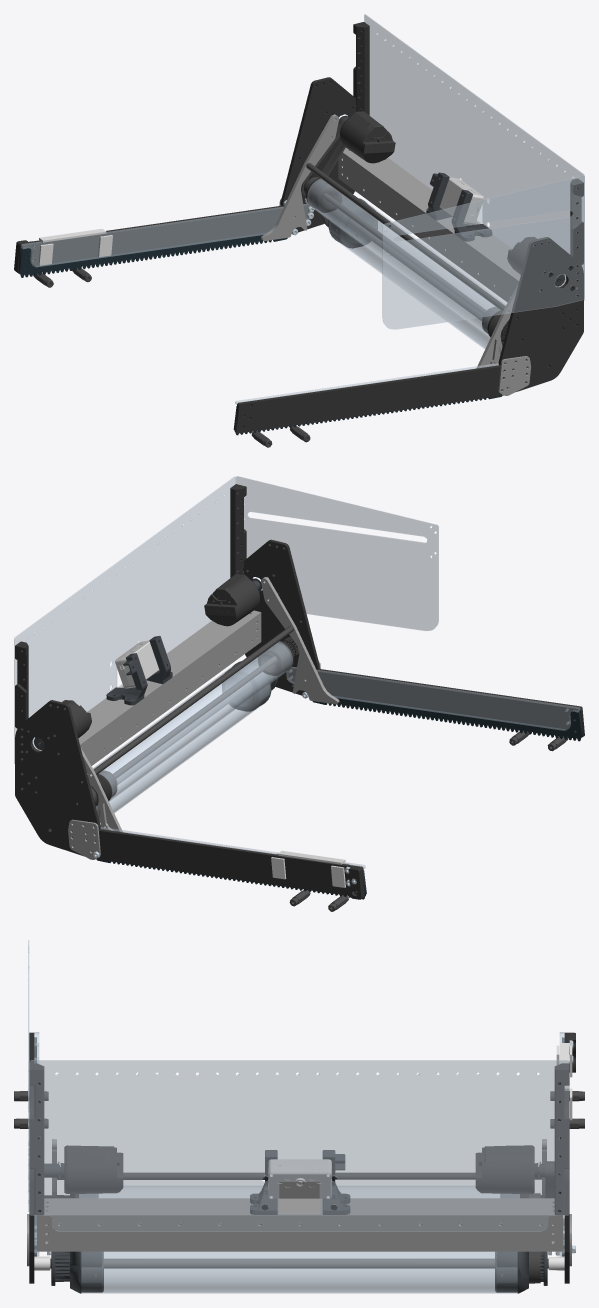
File: 581-intake.glb
3 renders of one model, top to bottom at view 1: azimuth 30°, elevation 25°; view 2: azimuth 150°, elevation 25°; view 3: azimuth 270°, elevation 25°, orthographic. The views are drawn at different scales.
Visible parts, largest first — view 1: Front Intake Hopper, Left Corner Print, 2x2, VEX-THND-500-1.725-BRNG, 26C0608 Right LL Mount V4, 254 Titanium Racks, Kraken X60 Brushless Motor, id1363, .5 x 4.5 Teflon; view 2: Front Intake Hopper, Left Corner Print, 2x2, VEX-THND-500-1.725-BRNG, 26C0608 Right LL Mount V4, 254 Titanium Racks, Kraken X60 Brushless Motor, id1363, .5 x 4.5 Teflon; view 3: Front Intake Hopper, 2x2, VEX-THND-500-1.725-BRNG, Left Corner Print, 26C0608 Right LL Mount V4, Kraken X60 Brushless Motor, id1363, .5 x 4.5 Teflon.
Boxes of the visible parts, x1,y1,x2,y2 form: Front Intake Hopper: (21,14,584,404); Left Corner Print: (14,22,583,433); 2x2: (261,114,562,395); VEX-THND-500-1.725-BRNG: (33,117,548,447); 26C0608 Right LL Mount V4: (322,115,565,346); 254 Titanium Racks: (18,233,501,435); Kraken X60 Brushless Motor: (340,111,560,281); id1363: (439,177,483,224); .5 x 4.5 Teflon: (38,228,112,265); Front Intake Hopper: (14,476,580,868); Left Corner Print: (15,484,584,899); 2x2: (36,577,339,859); VEX-THND-500-1.725-BRNG: (41,626,568,911); 26C0608 Right LL Mount V4: (33,578,277,809); 254 Titanium Racks: (97,696,582,899); Kraken X60 Brushless Motor: (38,574,259,745); id1363: (115,640,159,688); .5 x 4.5 Teflon: (271,850,349,887); Front Intake Hopper: (28,940,569,1293); 2x2: (27,1139,571,1266); VEX-THND-500-1.725-BRNG: (14,1091,584,1283); Left Corner Print: (29,1032,575,1283); 26C0608 Right LL Mount V4: (44,1150,547,1293); Kraken X60 Brushless Motor: (60,1145,538,1193); id1363: (268,1159,331,1198); .5 x 4.5 Teflon: (34,1043,572,1270).
Bounding box in the file's own units: 0.6253 × 0.3518 × 0.7233.
